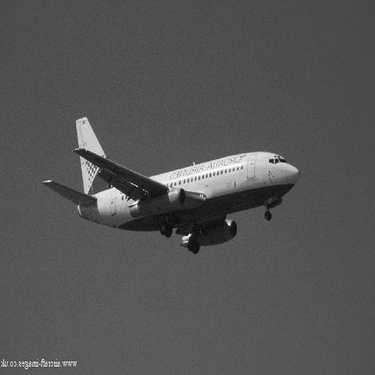airplane: (34, 97, 310, 272)
